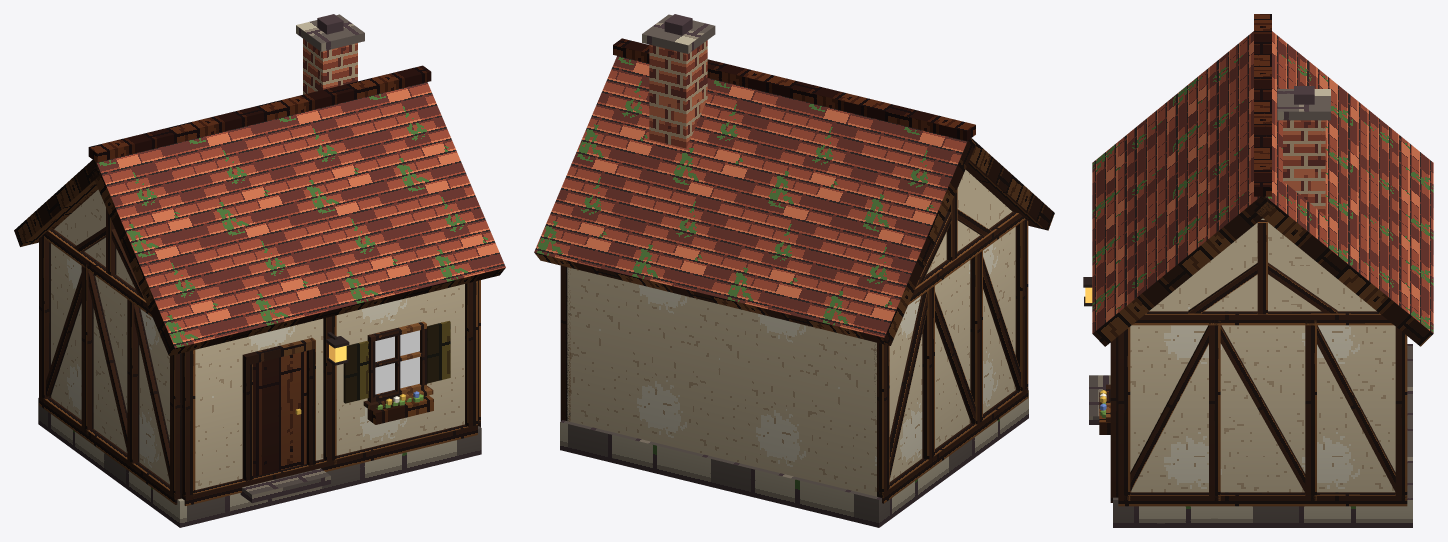
Rendered from cottage_baker.glb.
The picture shows the model from 3 angles, left to right: view 1: azimuth 30°, elevation 25°; view 2: azimuth 150°, elevation 25°; view 3: azimuth 270°, elevation 25°; orthographic projection. The views are drawn at different scales.
Visible parts, largest first — view 1: cottage_baker; view 2: cottage_baker; view 3: cottage_baker.
Boxes of the visible parts, x1=… form: cottage_baker: x1=14, y1=14, x2=505, y2=527; cottage_baker: x1=534, y1=14, x2=1054, y2=527; cottage_baker: x1=1083, y1=14, x2=1433, y2=527.
Size of the model in its own units: 5.94 by 6.52 by 5.09.
Materials: 8 (5 with a texture image).
